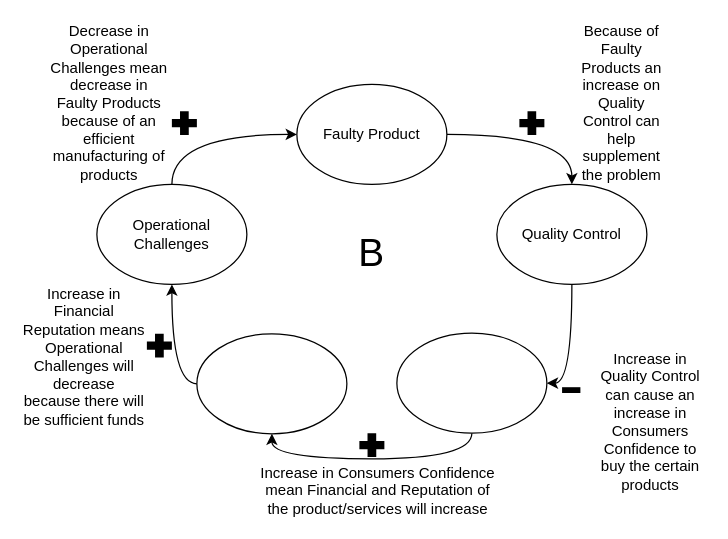
This 728x539 diagram has some shape labels left out. The shapes that lost their labels are listed below. From the top down, each one's box as (x1, y1, x2, y2) in pixels, then its label:
(196, 332, 347, 434): Financial and Reputation
(396, 332, 547, 433): Consumers Confidence
